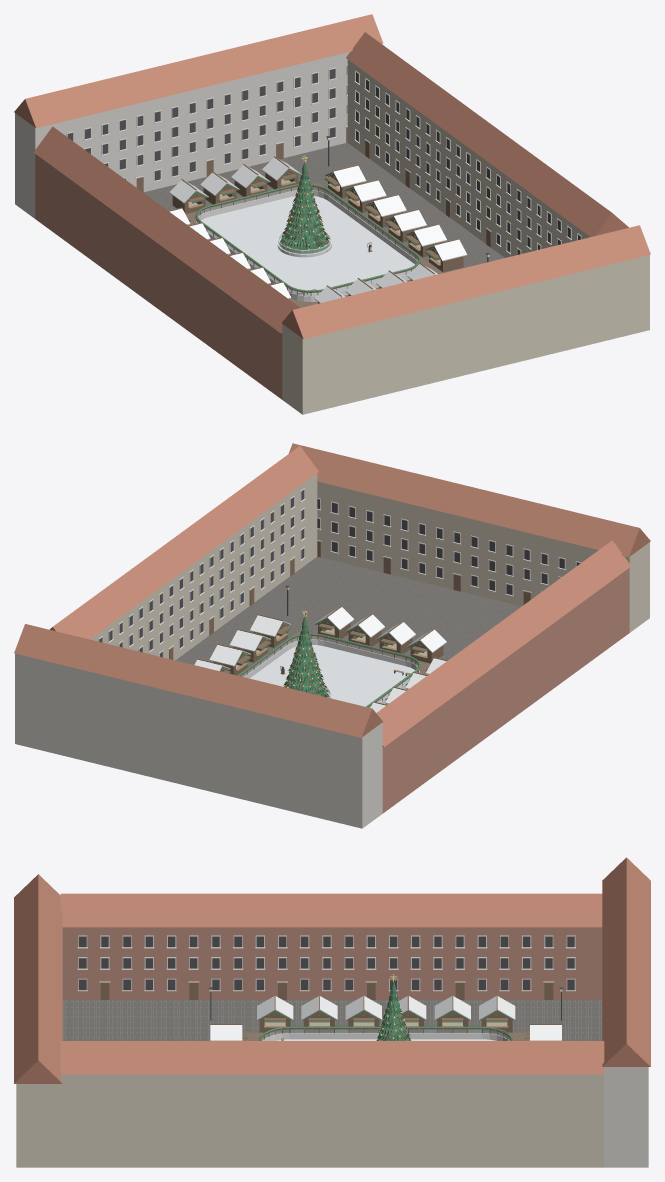
The model's file is clay-ice-rink-market-square-clay-v005.glb.
3 renders of one model, top to bottom at view 1: azimuth 30°, elevation 25°; view 2: azimuth 150°, elevation 25°; view 3: azimuth 270°, elevation 25°, orthographic. The views are drawn at different scales.
Parts seen in each view (by area): view 1: CLAY_TROOF, CLAY_FACADE, CLAY_FACADE3, CLAY_FACADE2, CLAY_ICE, CLAY_TRIM, CLAY_SNOW, CLAY_SETTS, CLAY_DARK, CLAY_HUT, CLAY_WHITE, CLAY_TIMBER (+6 smaller); view 2: CLAY_TROOF, CLAY_FACADE3, CLAY_FACADE, CLAY_FACADE2, CLAY_SETTS, CLAY_TRIM, CLAY_DARK, CLAY_ICE, CLAY_JOINT, CLAY_SNOW, CLAY_HUT, CLAY_TIMBER (+6 smaller); view 3: CLAY_TROOF, CLAY_FACADE, CLAY_FACADE2, CLAY_SETTS, CLAY_DARK, CLAY_TRIM, CLAY_FACADE3, CLAY_JOINT, CLAY_SNOW, CLAY_HUT, CLAY_TIMBER, CLAY_WHITE (+5 smaller).
Boxes of the visible parts, <box> form: CLAY_TROOF: <box>14,14,650,339</box>; CLAY_FACADE: <box>282,59,649,414</box>; CLAY_FACADE3: <box>15,44,382,218</box>; CLAY_FACADE2: <box>35,154,282,399</box>; CLAY_ICE: <box>201,196,414,295</box>; CLAY_TRIM: <box>66,64,581,255</box>; CLAY_SNOW: <box>169,157,467,302</box>; CLAY_SETTS: <box>143,142,504,272</box>; CLAY_DARK: <box>67,66,580,254</box>; CLAY_HUT: <box>172,169,463,303</box>; CLAY_WHITE: <box>196,190,417,301</box>; CLAY_TIMBER: <box>136,127,490,296</box>; CLAY_TROOF: <box>14,443,650,746</box>; CLAY_FACADE3: <box>15,653,382,828</box>; CLAY_FACADE: <box>90,473,649,660</box>; CLAY_FACADE2: <box>382,568,629,813</box>; CLAY_SETTS: <box>175,556,521,675</box>; CLAY_TRIM: <box>98,488,581,657</box>; CLAY_DARK: <box>99,490,580,674</box>; CLAY_ICE: <box>250,645,415,707</box>; CLAY_JOINT: <box>177,558,517,664</box>; CLAY_SNOW: <box>194,607,446,712</box>; CLAY_HUT: <box>213,619,443,699</box>; CLAY_TIMBER: <box>169,541,530,707</box>; CLAY_TROOF: <box>14,857,650,1083</box>; CLAY_FACADE: <box>16,1074,604,1167</box>; CLAY_FACADE2: <box>62,927,602,999</box>; CLAY_SETTS: <box>62,1000,602,1040</box>; CLAY_DARK: <box>79,936,574,989</box>; CLAY_TRIM: <box>77,935,575,991</box>; CLAY_FACADE3: <box>604,1067,648,1167</box>; CLAY_JOINT: <box>63,1000,601,1040</box>; CLAY_SNOW: <box>210,996,561,1040</box>; CLAY_HUT: <box>242,1011,529,1038</box>; CLAY_TIMBER: <box>100,982,561,1040</box>; CLAY_WHITE: <box>262,1033,509,1040</box>.
Bounding box in the file's own units: 60.2 × 18.5 × 86.1.
